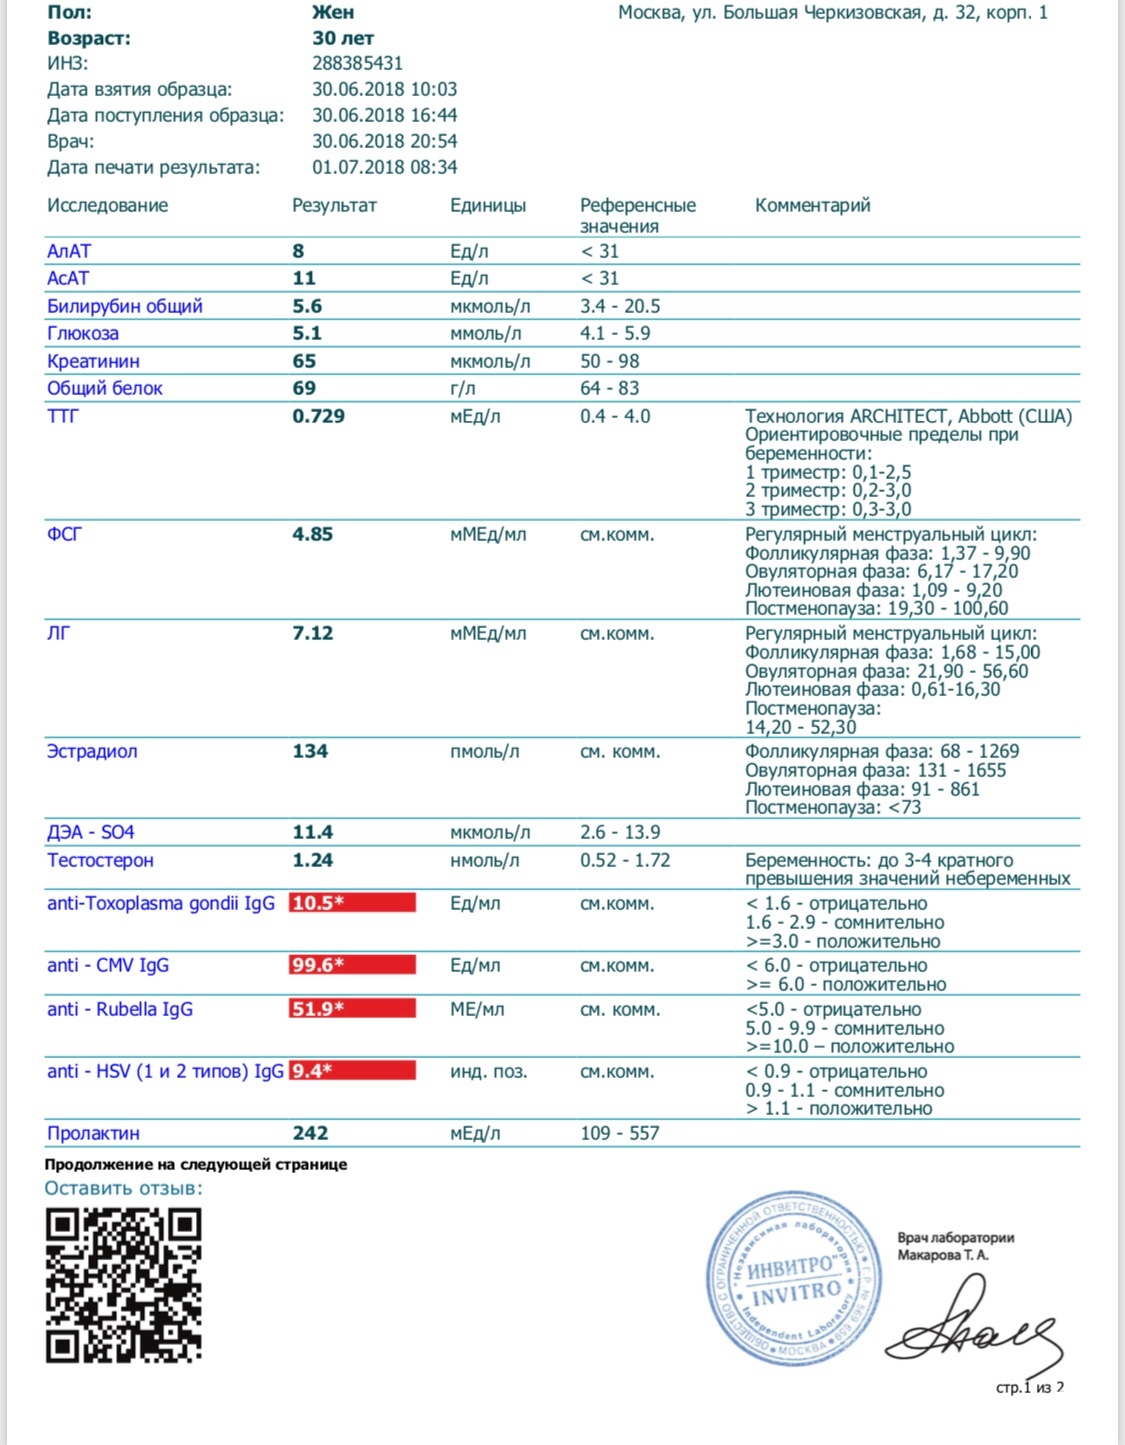column: (743, 196, 1072, 1146), (46, 196, 284, 1146), (580, 196, 697, 1146), (291, 196, 378, 1146), (449, 196, 530, 1146)
